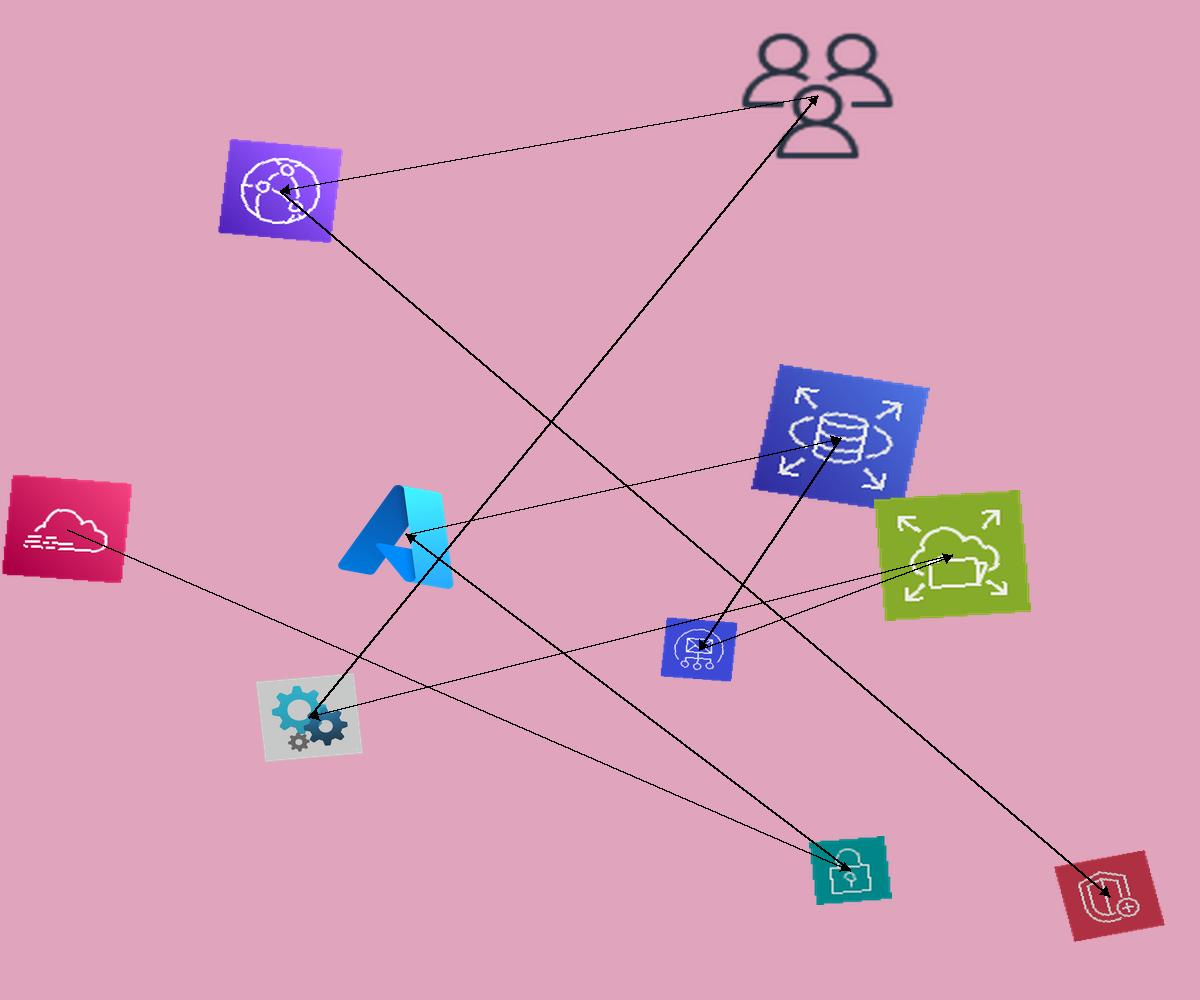AWS-CloudFront: (217, 138, 344, 244)
AWS-CloudTrail: (1, 474, 133, 584)
AWS-EFS: (874, 490, 1031, 621)
AWS-Private-subnet: (809, 836, 892, 905)
AWS-RDS: (751, 364, 930, 513)
AWS-Res_Users: (732, 25, 903, 167)
AWS-Shield: (1054, 850, 1165, 942)
AWS-Simple-Email-Service: (660, 617, 738, 682)
Azure_api: (256, 673, 363, 762)
Azure_services: (330, 470, 483, 598)
